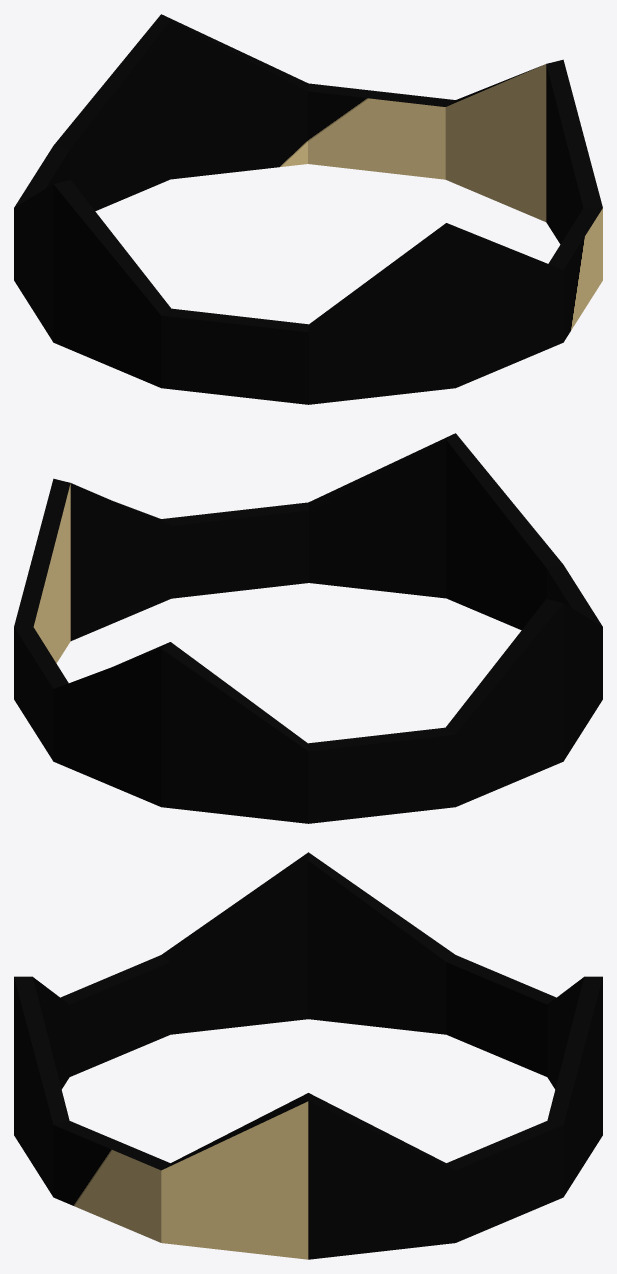
File: crown.glb
3 renders of one model, top to bottom at view 1: azimuth 30°, elevation 25°; view 2: azimuth 150°, elevation 25°; view 3: azimuth 270°, elevation 25°, orthographic.
Visible parts, largest first — view 1: pTorus1; view 2: pTorus1; view 3: pTorus1.
Boxes of the visible parts, x1,y1,x2,y2 form: pTorus1: (14,14,602,404); pTorus1: (14,433,602,823); pTorus1: (14,852,602,1259).
Bounding box in the file's own units: 2.25 × 0.6683 × 2.25.
Materials: 1 (1 with a texture image).
